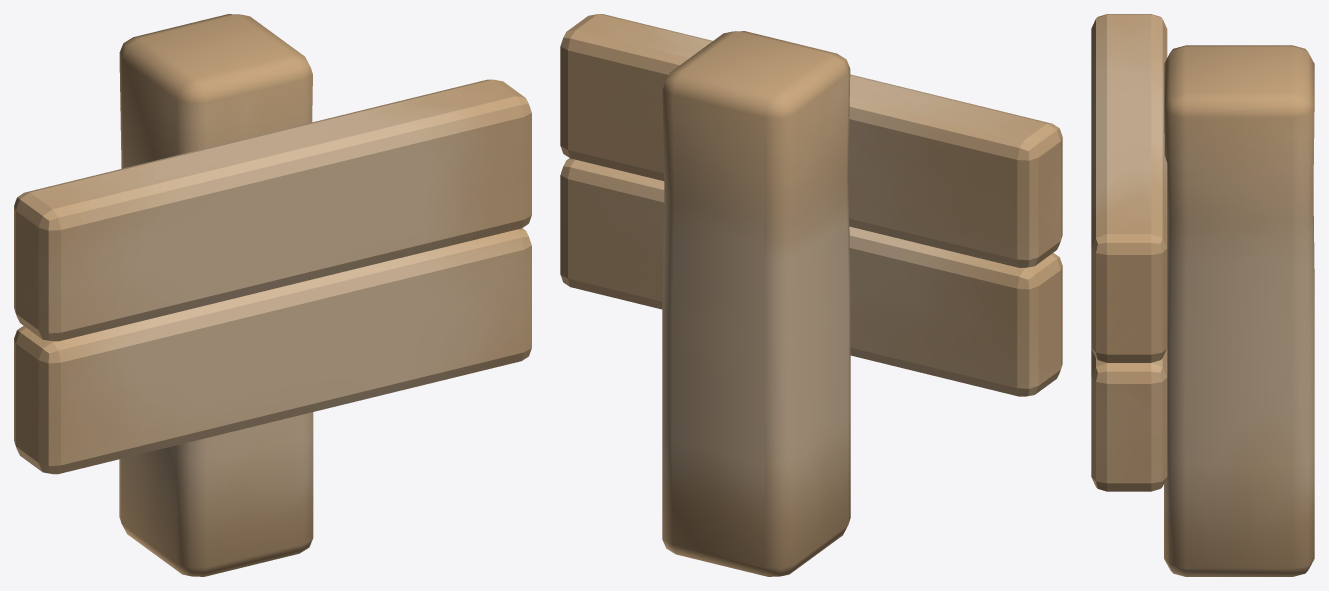
The model's file is Sign_01.fbx.
3 renders of one model, left to right at view 1: azimuth 30°, elevation 25°; view 2: azimuth 150°, elevation 25°; view 3: azimuth 270°, elevation 25°, orthographic. The views are drawn at different scales.
Visible parts, largest first — view 1: 立方体.013; view 2: 立方体.013; view 3: 立方体.013.
Boxes of the visible parts, x1,y1,x2,y2 form: 立方体.013: (14,14,531,576); 立方体.013: (560,14,1062,576); 立方体.013: (1091,14,1314,576).
Bounding box in the file's own units: 70.47 × 68.19 × 28.59.
